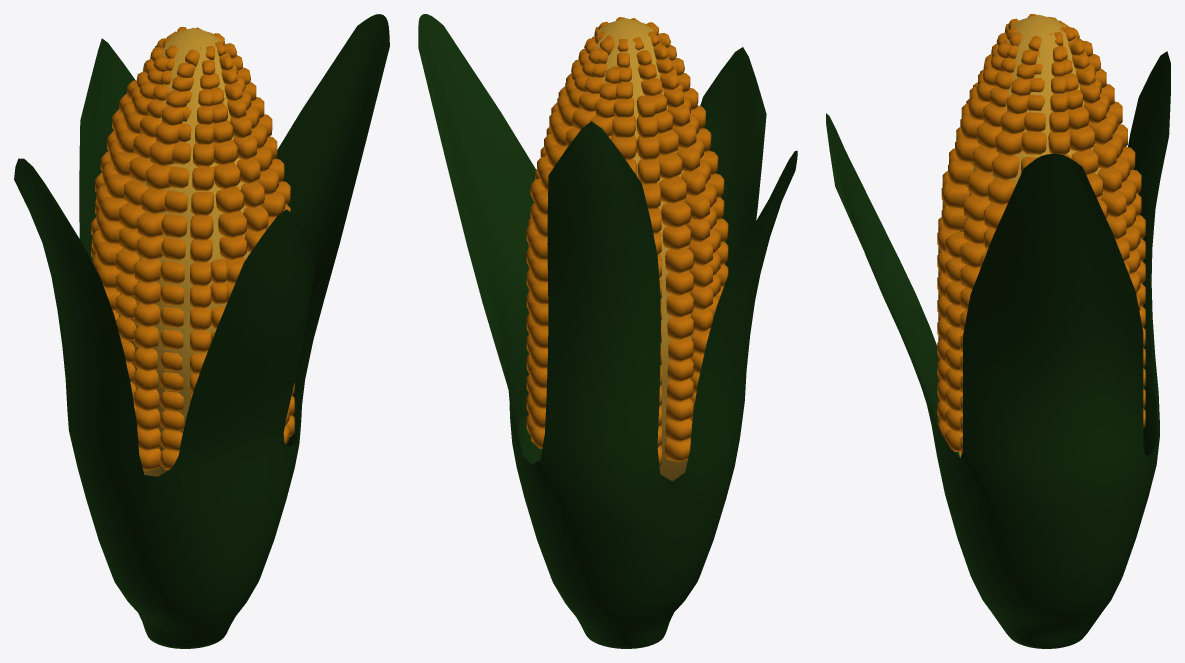
The model's file is EarOfCorn_220.fbx.
3 views of the same model, side by side, from view 1: azimuth 30°, elevation 25°; view 2: azimuth 150°, elevation 25°; view 3: azimuth 270°, elevation 25° (orthographic).
Visible parts, largest first — view 1: Tube001, Sphere001; view 2: Tube001, Sphere001; view 3: Tube001, Sphere001.
Part boxes in pixels (<box>): Tube001: <box>14,14,389,648</box>; Sphere001: <box>91,27,294,476</box>; Tube001: <box>418,14,797,648</box>; Sphere001: <box>526,17,728,481</box>; Tube001: <box>826,51,1170,648</box>; Sphere001: <box>937,14,1145,457</box>.
Bounding box in the file's own units: 23.35 × 37.08 × 18.73.
